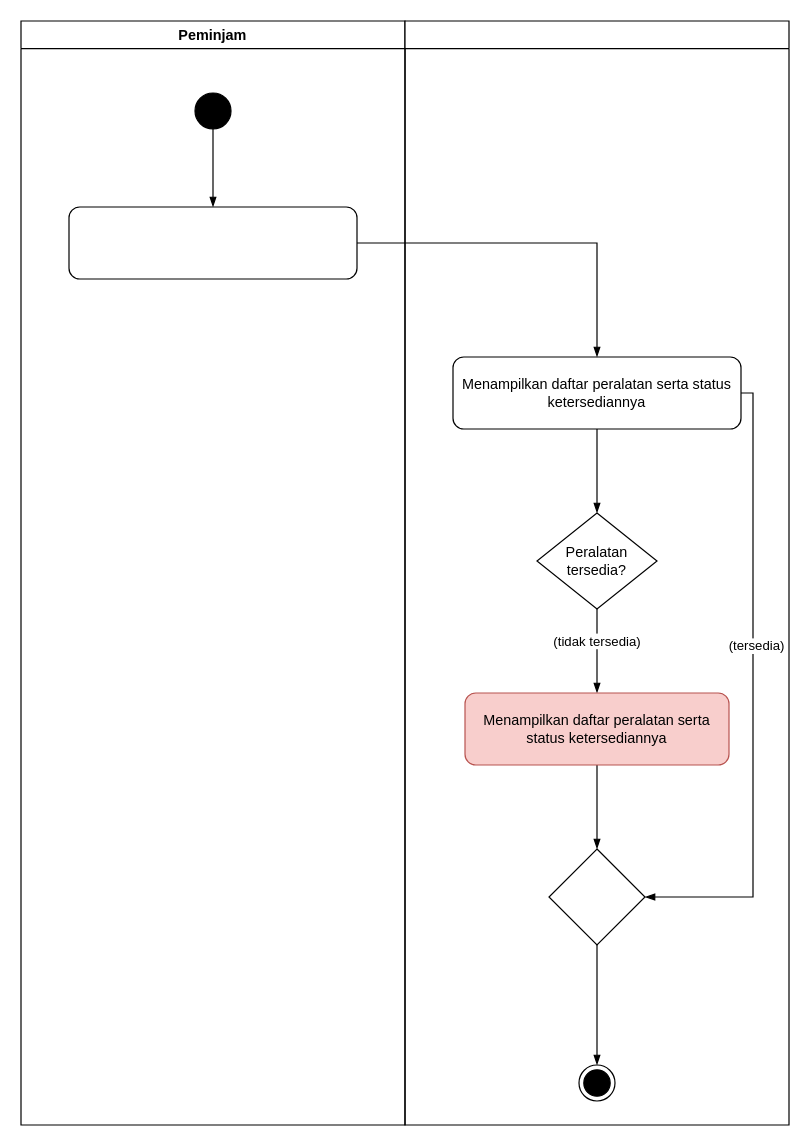
Some shapes in this 810 by 1146 pixel diagram are drawn without their labels. Here are the shapes that lost their labels. From the top down, the box of each, then its label:
(68, 206, 357, 279): Membuka fungsi lihat ketersediaan peralatan
(404, 20, 789, 1125): Sistem
